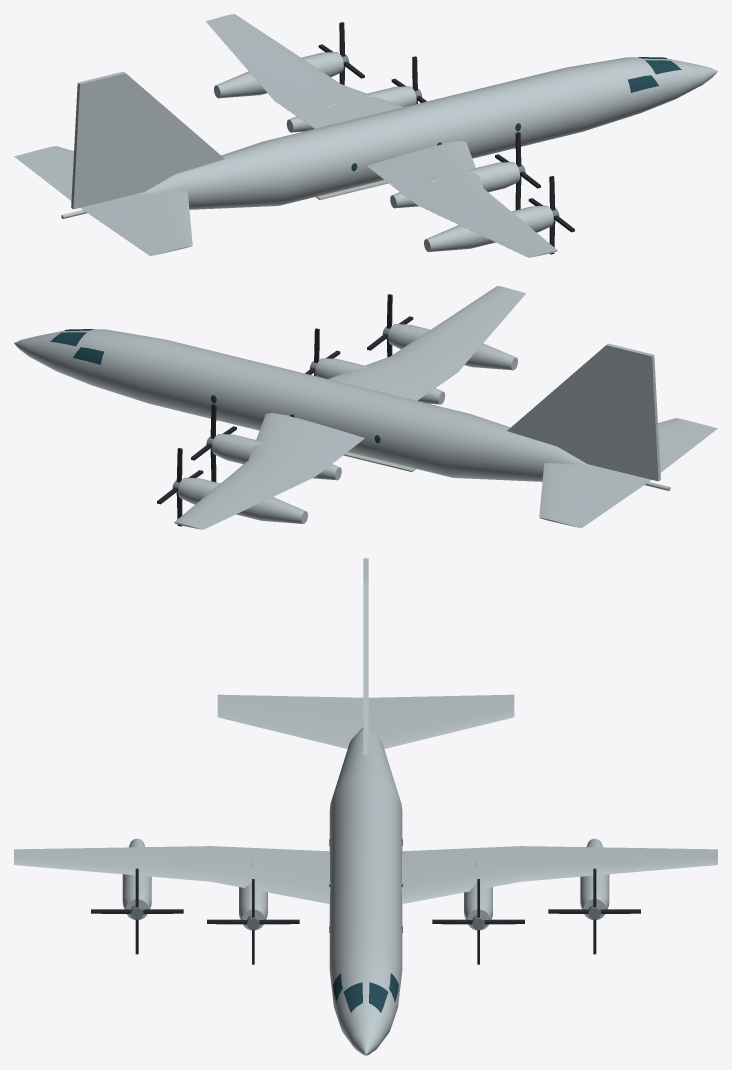
3 renders of one model, top to bottom at view 1: azimuth 30°, elevation 25°; view 2: azimuth 150°, elevation 25°; view 3: azimuth 270°, elevation 25°, orthographic. The views are drawn at different scales.
Parts seen in each view (by area): view 1: airframe_light, rubber, glazing, array_face; view 2: airframe_light, rubber, glazing, array_face; view 3: airframe_light, rubber, glazing.
Part boxes in pixels (left/top/right/bottom): airframe_light: left=14, top=14, right=717, bottom=257; rubber: left=318, top=22, right=574, bottom=254; glazing: left=351, top=57, right=681, bottom=170; array_face: left=61, top=180, right=388, bottom=218; airframe_light: left=14, top=286, right=717, bottom=529; rubber: left=157, top=294, right=413, bottom=526; glazing: left=50, top=329, right=380, bottom=442; array_face: left=343, top=452, right=670, bottom=490; airframe_light: left=14, top=558, right=717, bottom=1055; rubber: left=91, top=868, right=640, bottom=964; glazing: left=329, top=838, right=402, bottom=1012.
Bounding box in the file's own units: 10 × 2.67 × 8.54.
